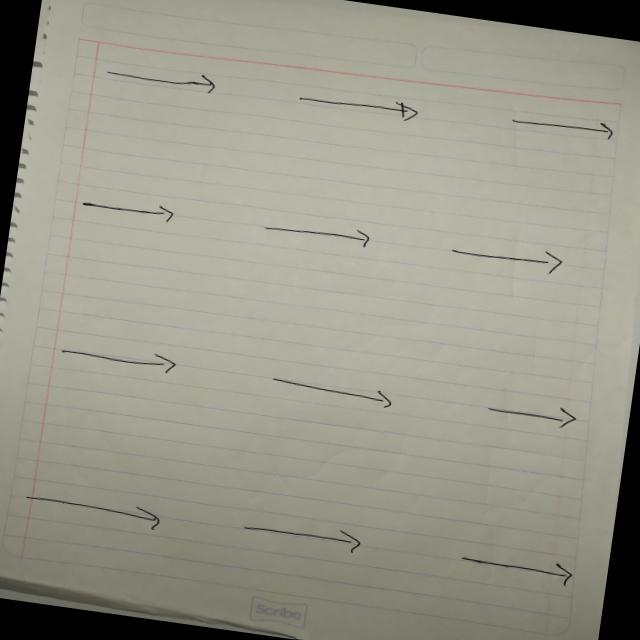arrow_line_right: (258, 363, 422, 424), (16, 482, 178, 540), (420, 231, 582, 288), (45, 332, 197, 384), (94, 54, 232, 106), (283, 82, 439, 128), (231, 511, 378, 559), (444, 540, 579, 592), (247, 209, 393, 257), (499, 105, 620, 148), (68, 187, 186, 229), (478, 390, 584, 435)
